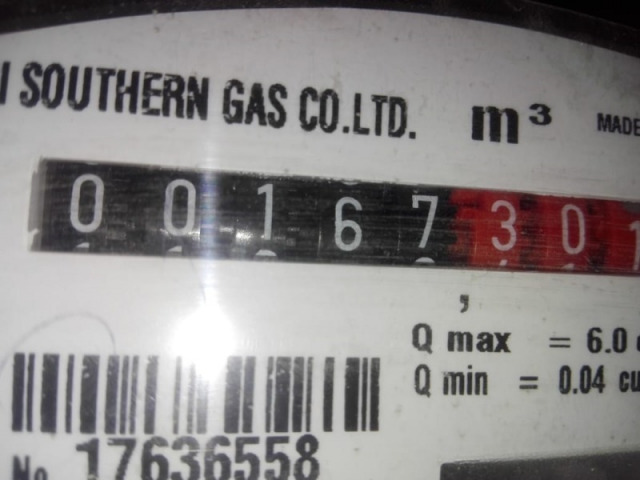ssgc: (26, 156, 639, 276)
